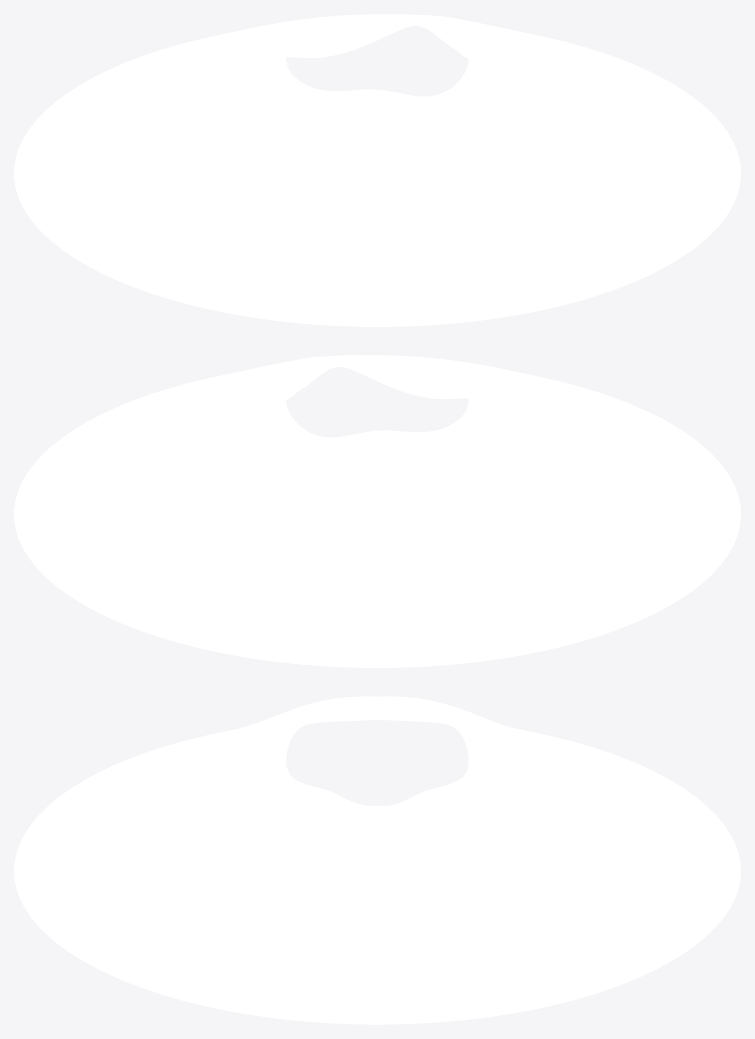
Rendered from xiedu.glb.
3 views of the same model, one above another, from view 1: azimuth 30°, elevation 25°; view 2: azimuth 150°, elevation 25°; view 3: azimuth 270°, elevation 25° (orthographic).
Visible parts, largest first — view 1: xiedu; view 2: xiedu; view 3: xiedu.
Boxes of the visible parts, left/top/right/bottom form: xiedu: left=14, top=14, right=740, bottom=326; xiedu: left=14, top=355, right=740, bottom=667; xiedu: left=14, top=696, right=740, bottom=1024.
Size of the model in its own units: 6.29 by 1.17 by 6.29.
1 material, 1 textured.
